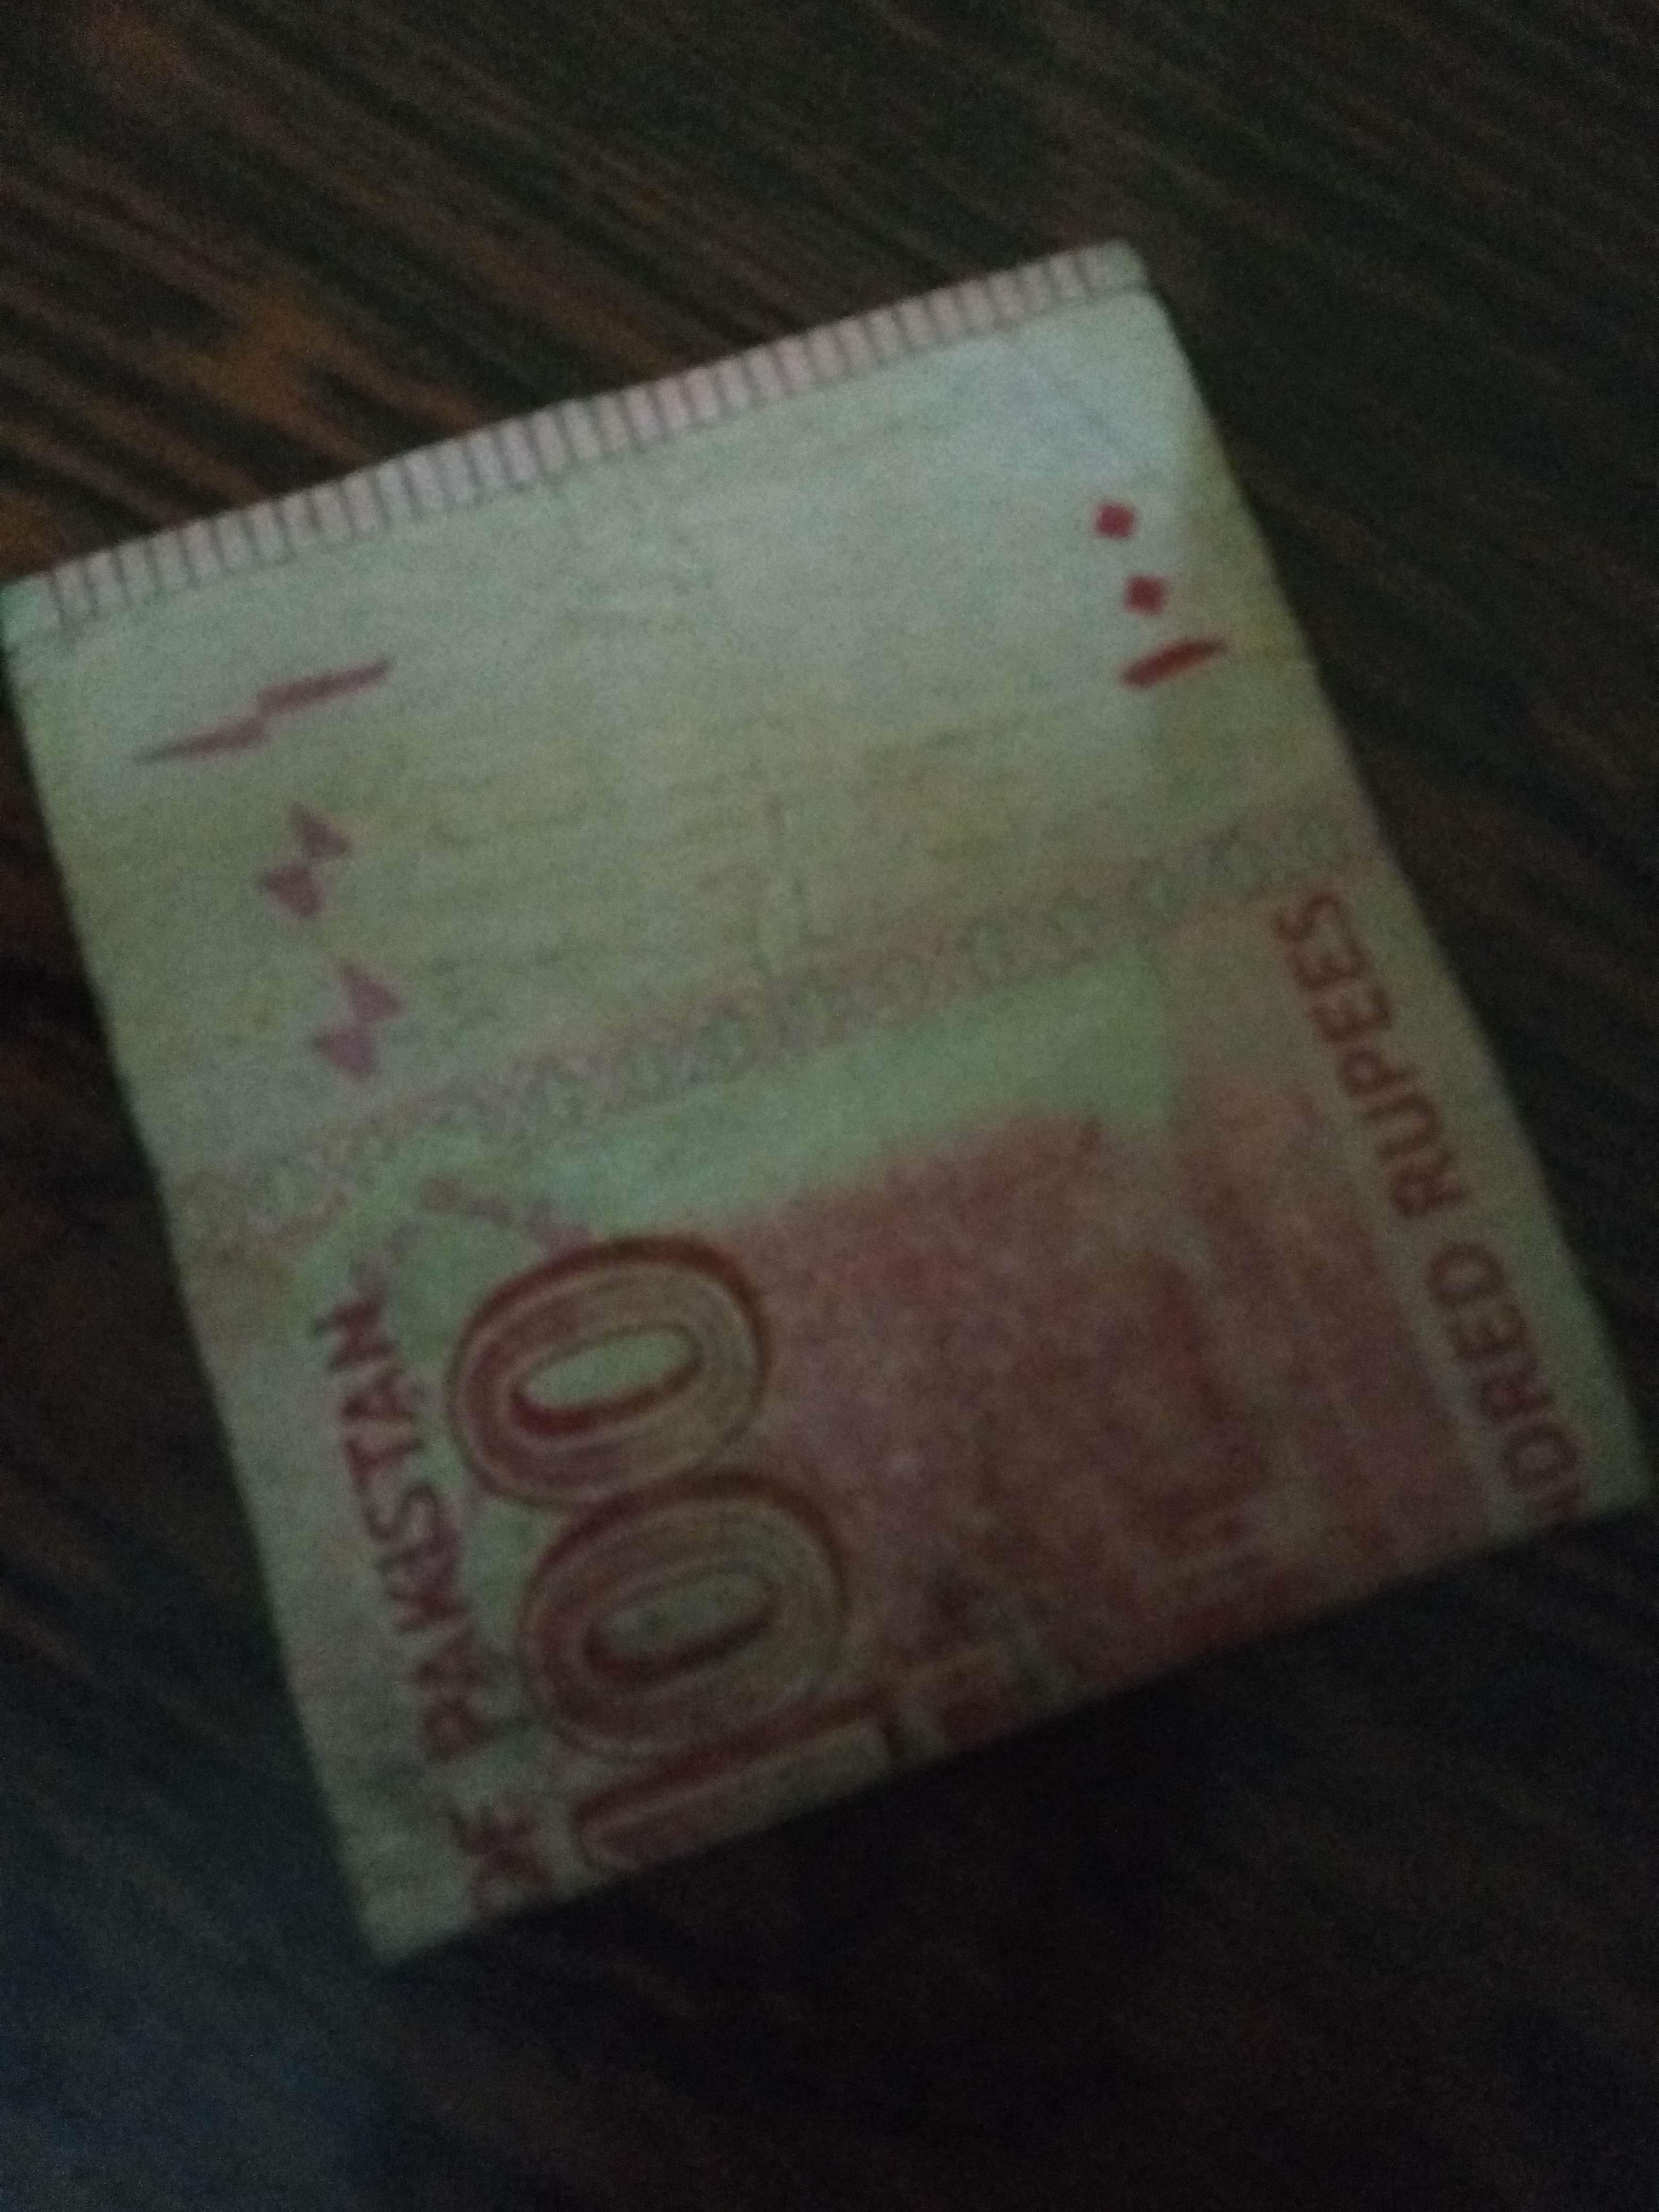100 rupee: (21, 240, 1659, 1977)
